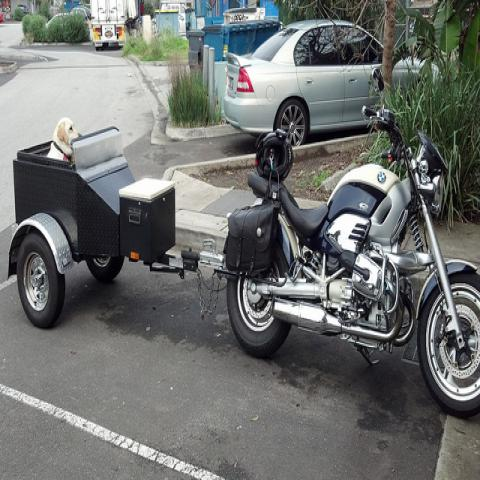car: (223, 17, 441, 144), (70, 10, 92, 30), (46, 12, 68, 28)
motorcycle: (222, 69, 479, 415)
truck: (86, 0, 130, 52)
